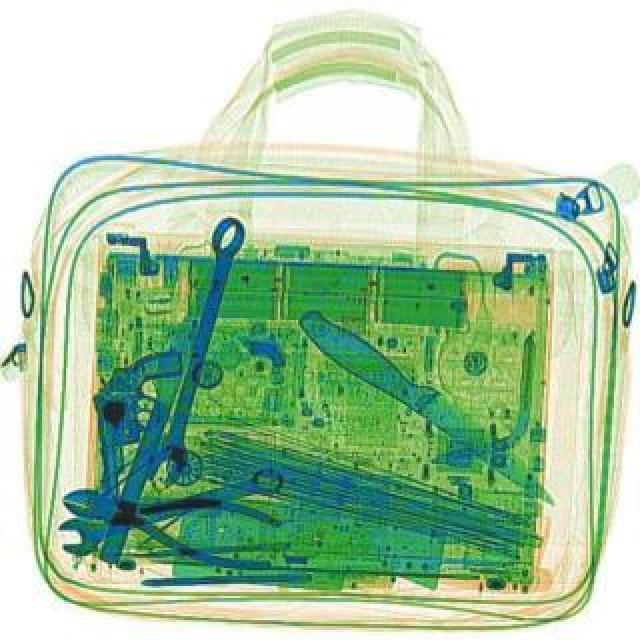gun: (88, 346, 196, 518)
knife: (290, 302, 570, 510), (88, 250, 228, 562)
scissors: (140, 210, 250, 484), (52, 456, 288, 558)
wrench: (52, 466, 284, 574)
